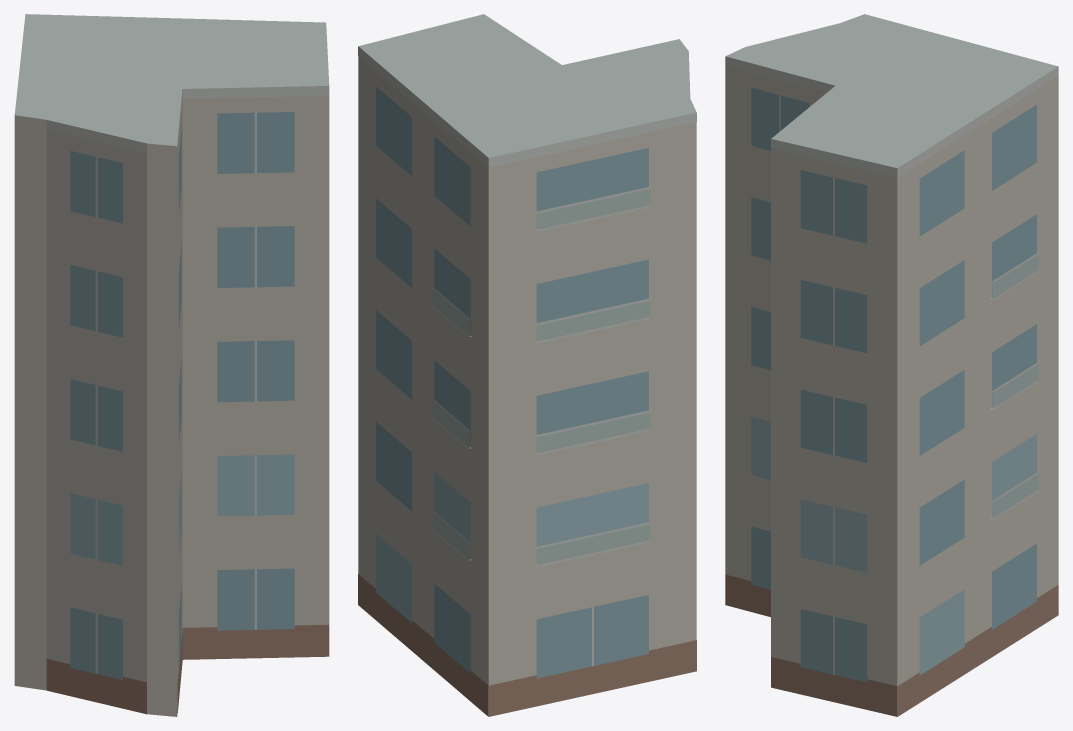
File: survey-upis-32474960.glb
The picture shows the model from 3 angles, left to right: view 1: azimuth 30°, elevation 25°; view 2: azimuth 150°, elevation 25°; view 3: azimuth 270°, elevation 25°; orthographic projection. The views are drawn at different scales.
Visible parts, largest first — view 1: survey-upis-32474960.tmp; view 2: survey-upis-32474960.tmp; view 3: survey-upis-32474960.tmp.
Boxes of the visible parts, x1,y1,x2,y2 form: survey-upis-32474960.tmp: [14, 14, 329, 716]; survey-upis-32474960.tmp: [358, 14, 696, 716]; survey-upis-32474960.tmp: [725, 14, 1058, 716].
Bounding box in the file's own units: 8.57 × 14.2 × 7.83.
